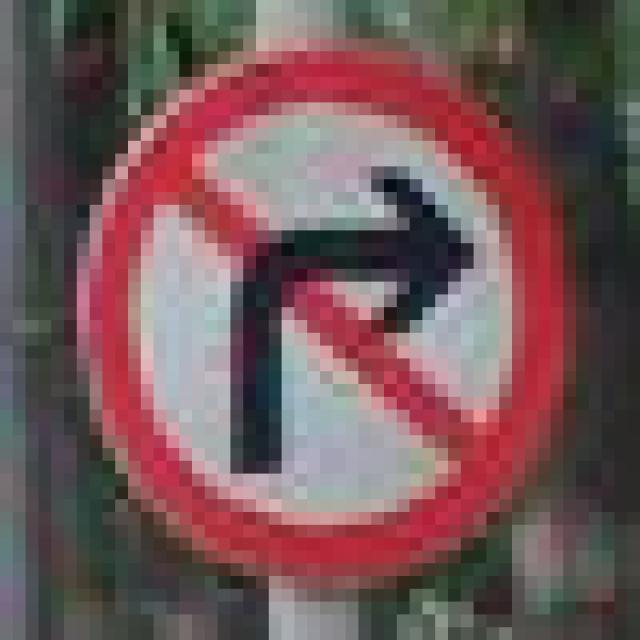right turn prohibited: (60, 41, 585, 598)
